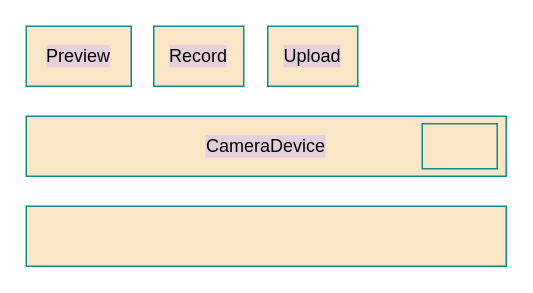
Image size: 533x293. Some labels were removed from this diagram. Each missing label, with the centre of its shape:
AisDevice: (265,235)
Splitter: (459,145)
